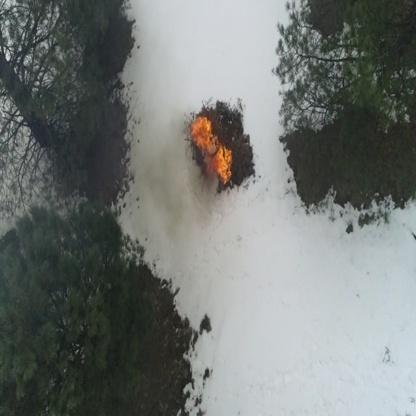Fire: (190, 116, 213, 151), (217, 149, 231, 182), (206, 154, 232, 171), (214, 138, 221, 148)
